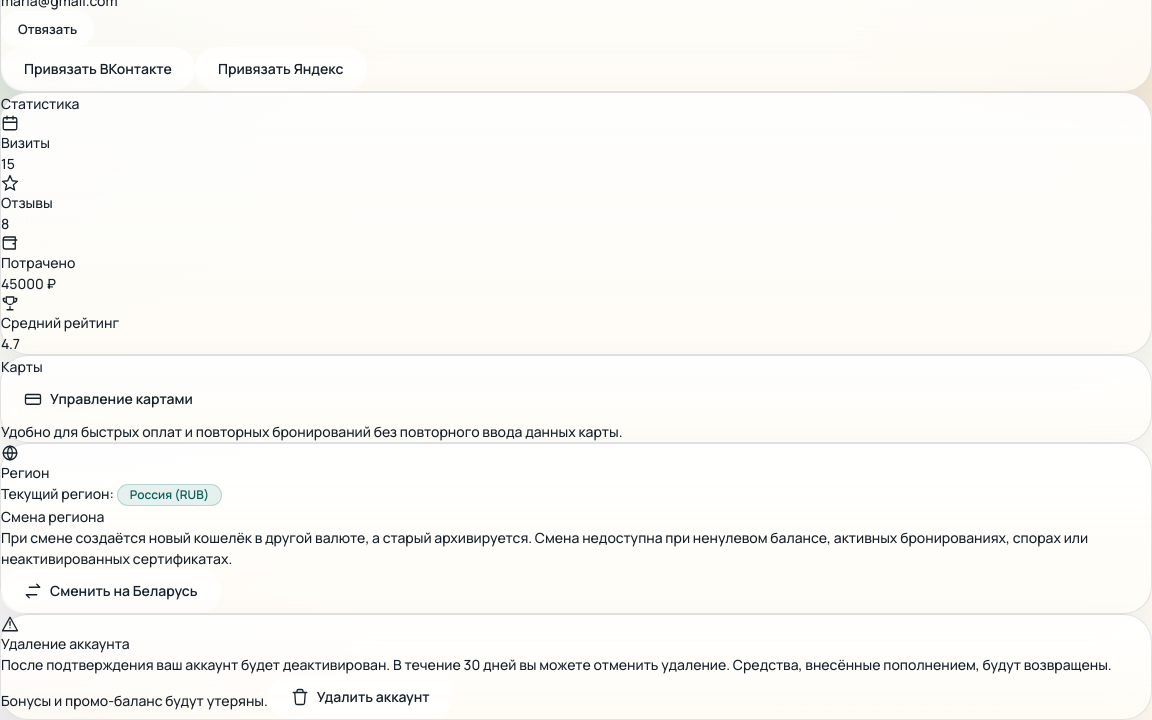
ClientProfile › shows deletion confirmation modal on click
The width and height of the screenshot is (1152, 720).
(page scrolled)
Click the button "Удалить аккаунт". click: {"x": 360, "y": 697}
box: [268,675,453,719]
(page scrolled)
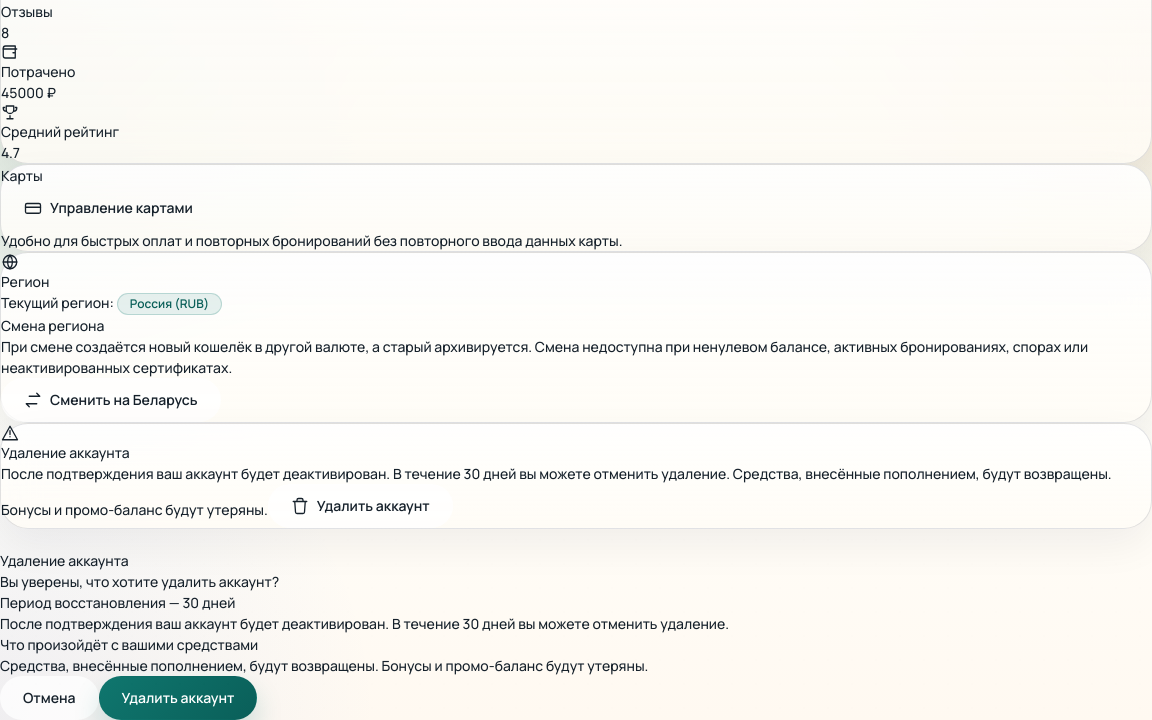
expect the text "Период восстановления — 30 дней" is shown: met, box [0,593,235,612]
expect the text "Что произойдёт с вашими средствами" is shown: met, box [0,635,258,654]
